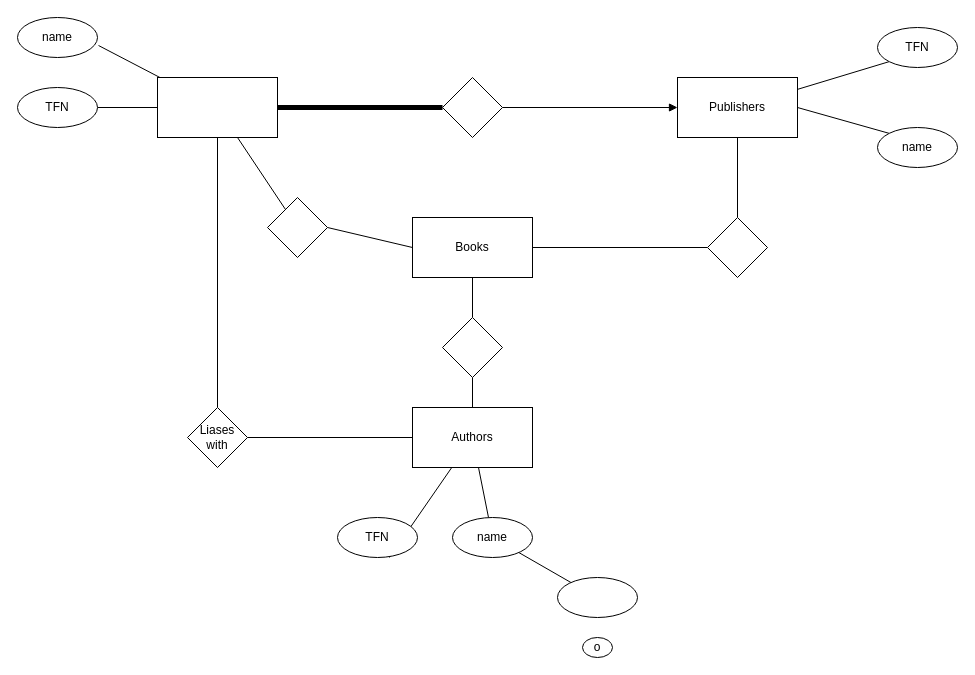
Some shapes in this 975 by 675 pixel diagram are drawn without their labels. Here are the shapes that lost their labels. From the top down, the centre of each, then its label:
(x=217, y=107): Editors
(x=472, y=107): Works for
(x=297, y=227): Edit
(x=737, y=247): Publish
(x=472, y=347): Write
(x=597, y=597): pen_name
